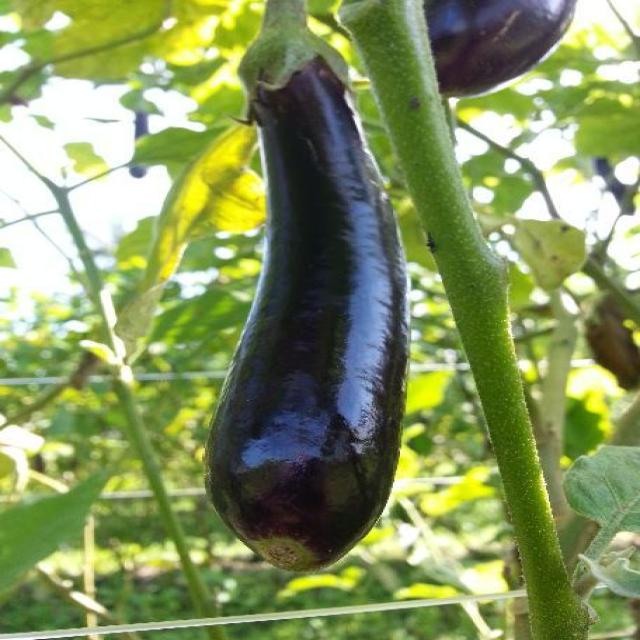eggplant: (181, 23, 425, 596)
